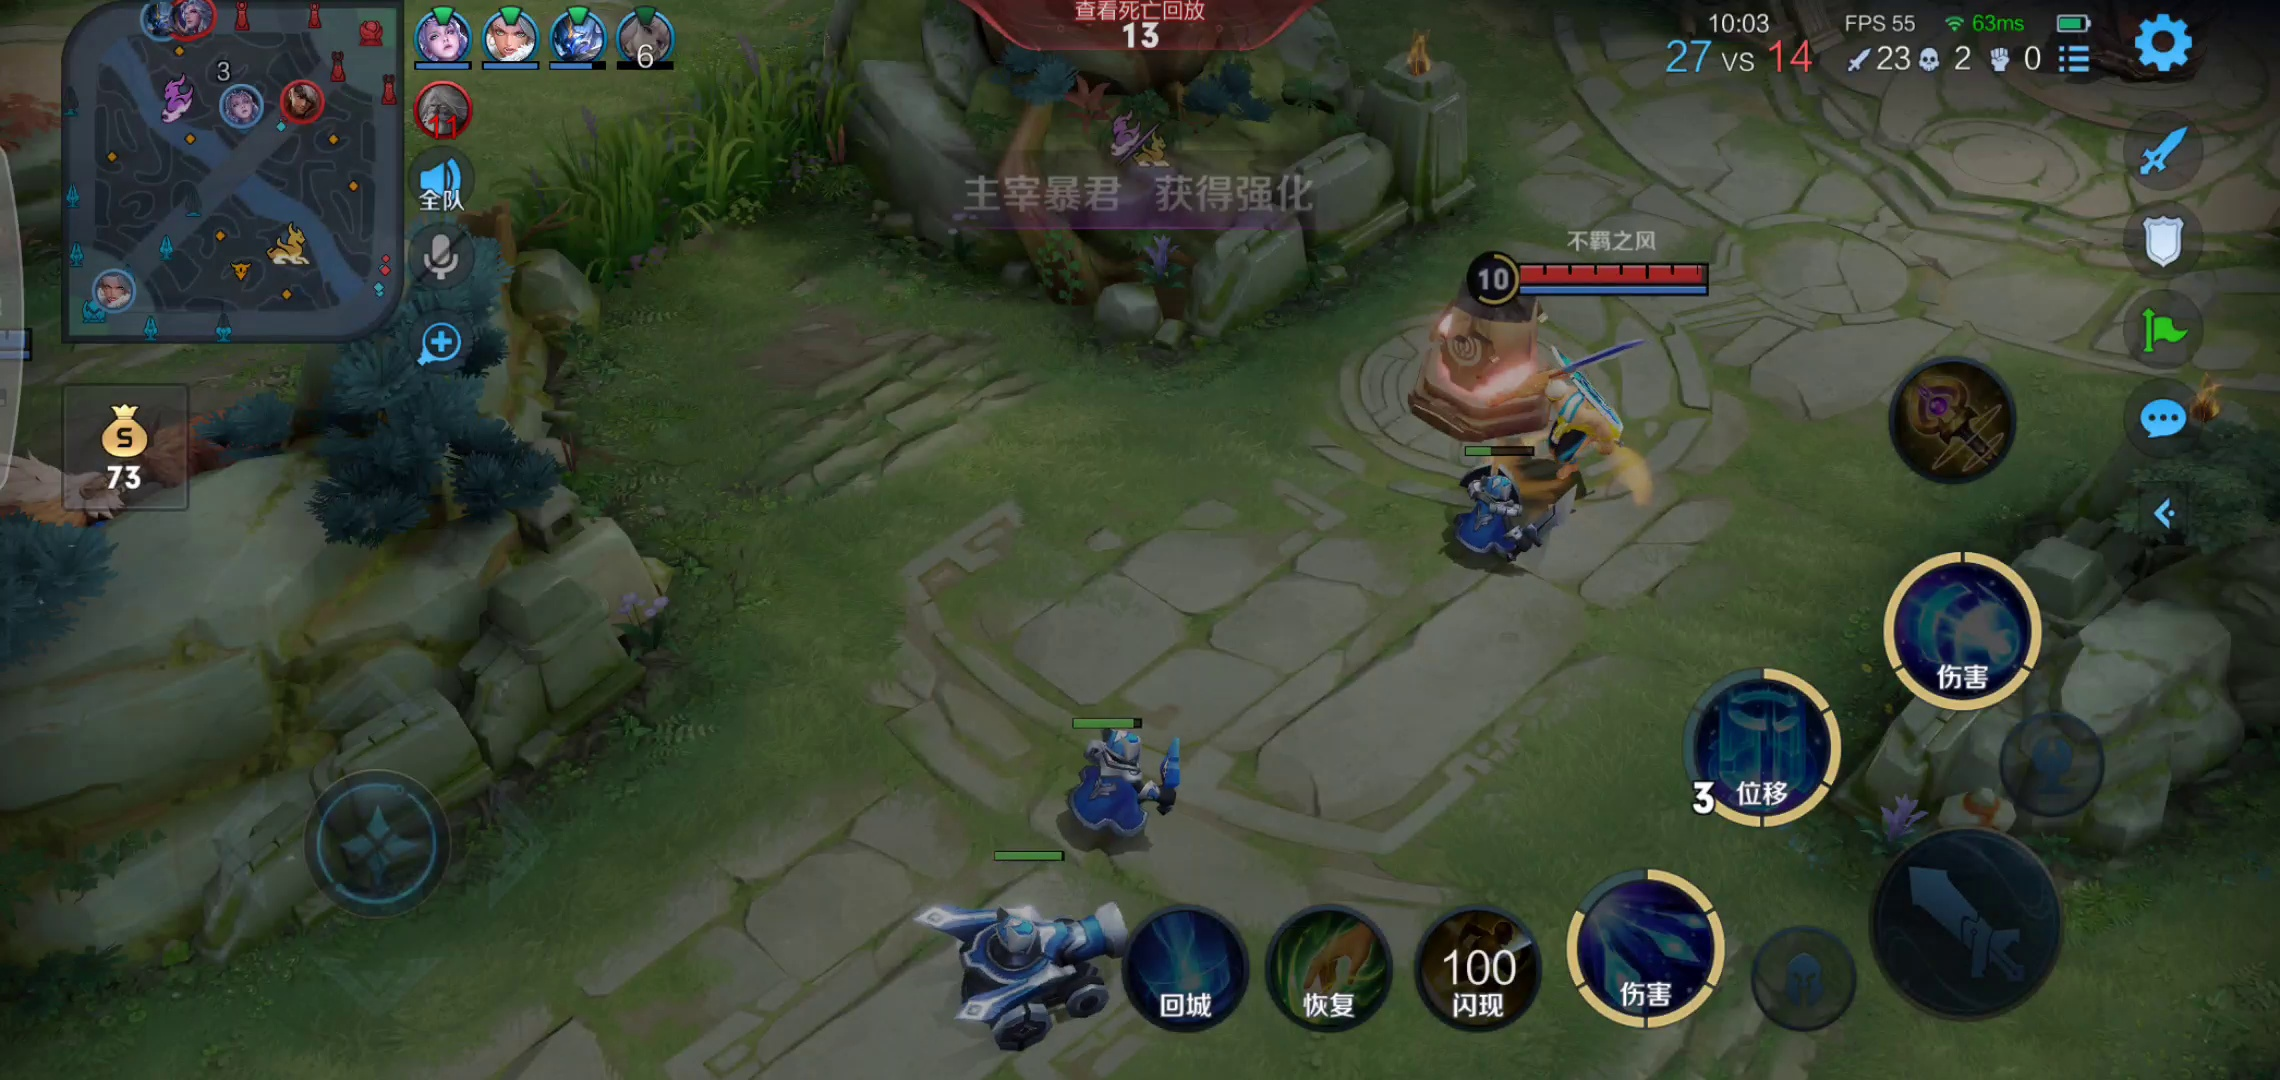grass: (507, 78, 872, 251)
hero: (1528, 362, 1637, 499)
soldier: (923, 874, 1139, 1057), (1051, 720, 1184, 842), (1440, 452, 1546, 579)
tower: (1410, 269, 1566, 443)
wild_monster: (4, 401, 345, 520)
